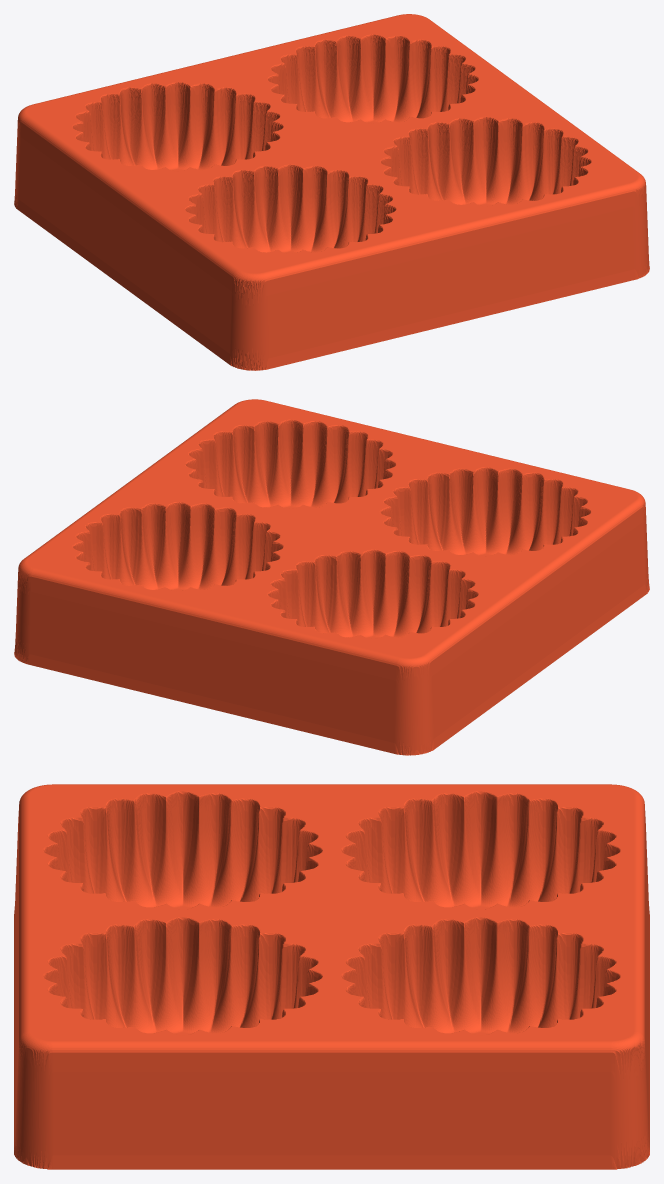
Rendered from mold.glb.
The picture shows the model from 3 angles, top to bottom: view 1: azimuth 30°, elevation 25°; view 2: azimuth 150°, elevation 25°; view 3: azimuth 270°, elevation 25°; orthographic projection. The views are drawn at different scales.
Visible parts, largest first — view 1: geometry_0; view 2: geometry_0; view 3: geometry_0.
Part boxes in pixels (box(x1,y1,x2,y2)): geometry_0: box(14, 14, 649, 370); geometry_0: box(14, 399, 649, 755); geometry_0: box(14, 784, 649, 1169).
Size of the model in its own units: 0.1466 by 0.031 by 0.1466.
